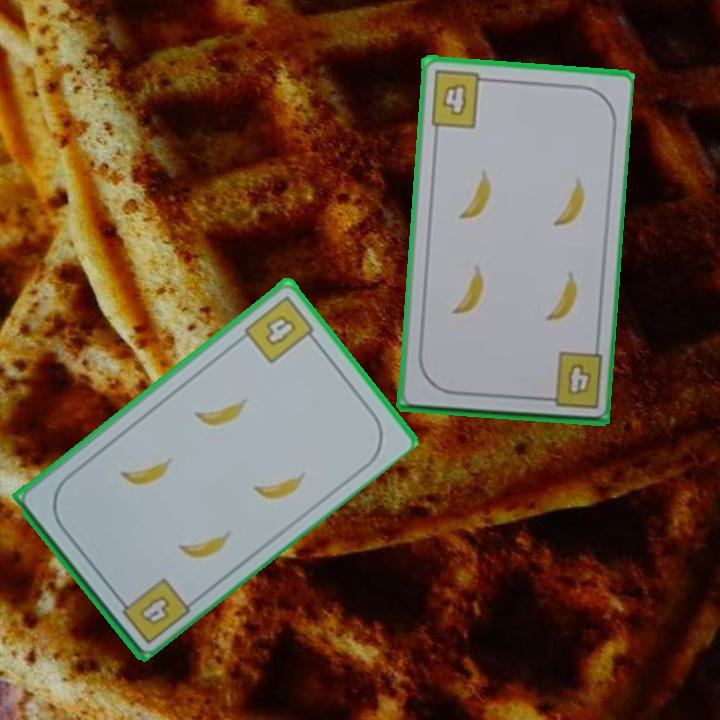4b: (240, 291, 321, 367), (112, 574, 193, 647), (536, 350, 604, 412), (427, 67, 492, 131)
